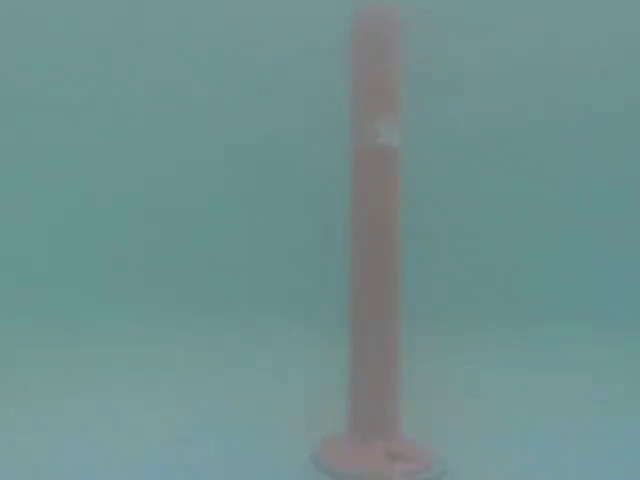flare: (307, 10, 448, 480)
